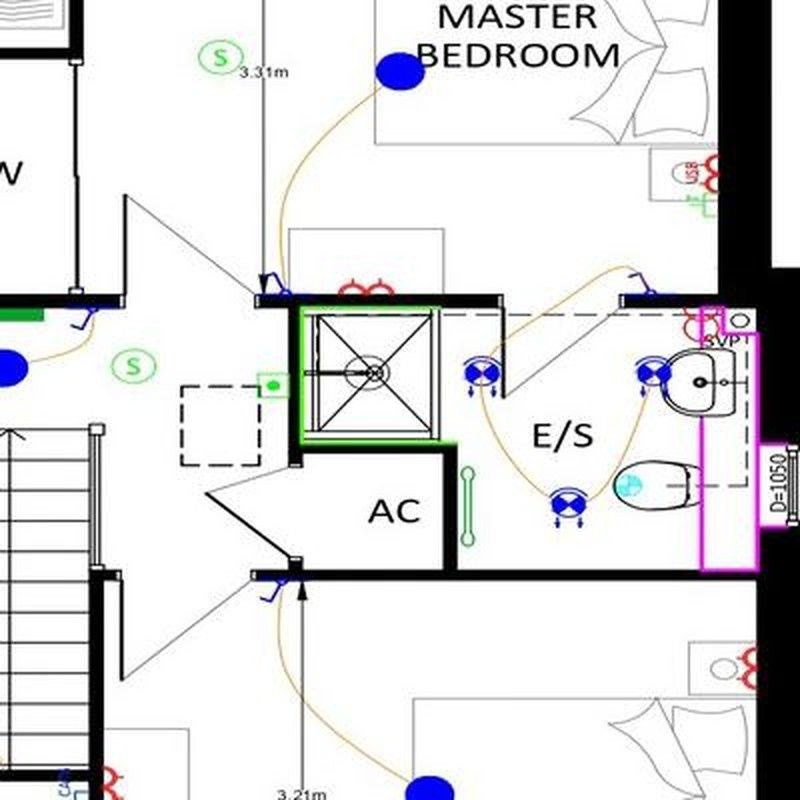Ceiling Mounted Continuous Extract FanWith Boost Mode Activated By Light Switch: (614, 474, 643, 496)
Double Socket: (339, 277, 396, 295), (736, 648, 757, 690), (102, 767, 126, 800)
Full Height Tiling: (297, 306, 444, 442)
Light Switch: (625, 268, 656, 296), (256, 580, 288, 603), (71, 308, 100, 332), (264, 273, 291, 293)
Low Energy Downlighter: (635, 355, 674, 398), (463, 355, 500, 399), (550, 487, 588, 529)
Low Energy Pendant Light: (375, 52, 425, 91), (404, 776, 457, 800), (1, 350, 28, 389)
Mains Wired Smoke Detector: (112, 349, 156, 383), (199, 40, 243, 74)
Programmable Room Thermostat: (258, 373, 288, 400)
Shaver Socket: (683, 308, 721, 350)
Telephone Socket: (687, 193, 718, 219)
USB Double Socket: (685, 154, 719, 192)
